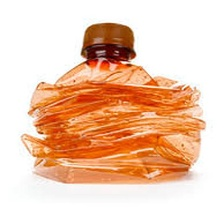bottle: (18, 19, 212, 189)
